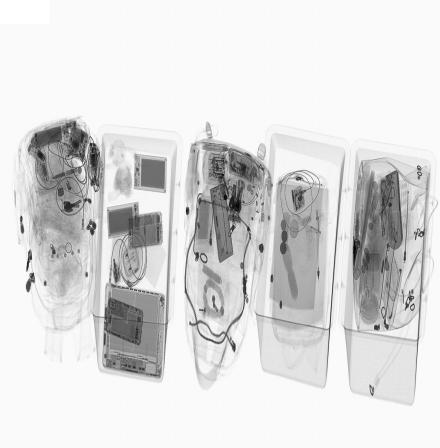Powerbank: (133, 152, 168, 195), (106, 200, 140, 241)
